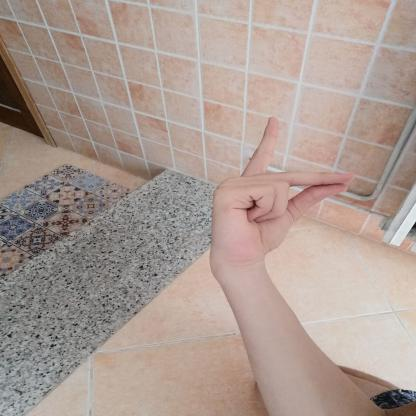TAA: (198, 111, 360, 270)
